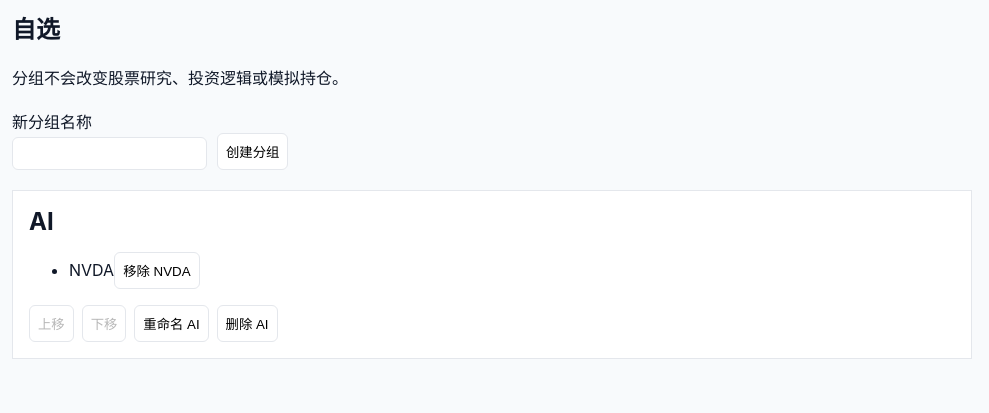
it: renames a group and removes a symbol
This screenshot has width=989, height=413.
Click the button "重命名 AI": point(171, 323) [134,305,209,342]
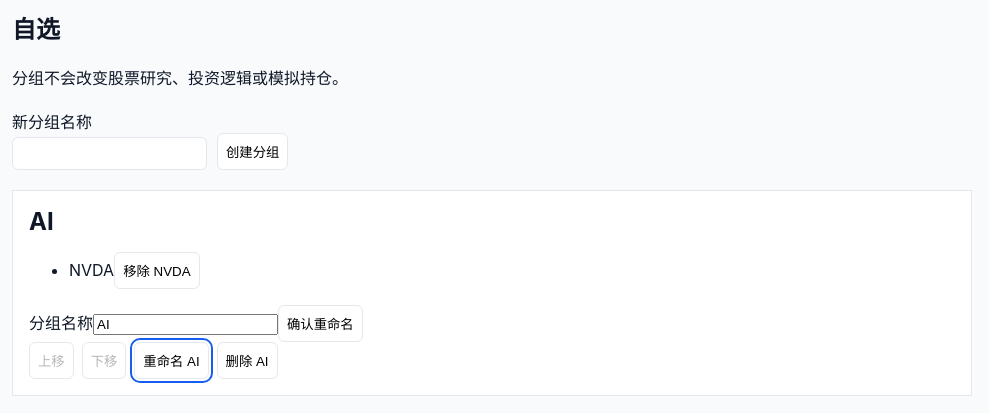
Replace the text in the field labelled "分组名称" with "AI 基础设施": point(186, 324) [93,314,278,335]
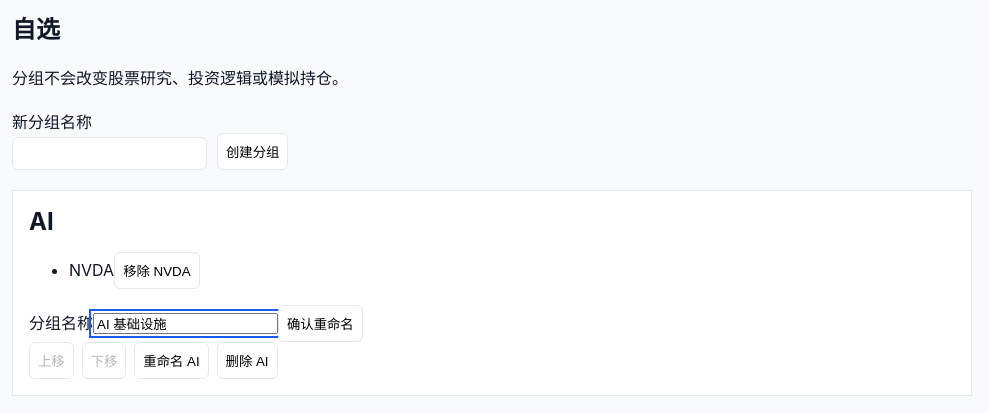
Click the button "确认重命名": point(320, 323) [278,305,363,342]
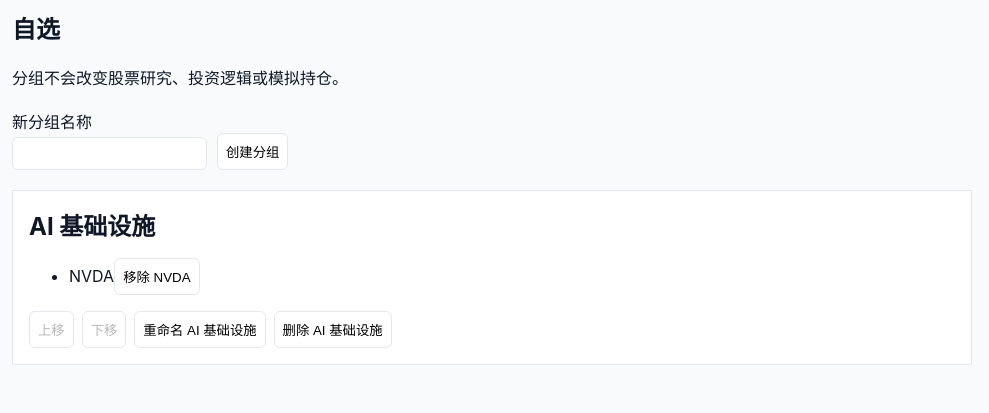
Click the button "移除 NVDA": point(157, 276) [114,258,200,295]
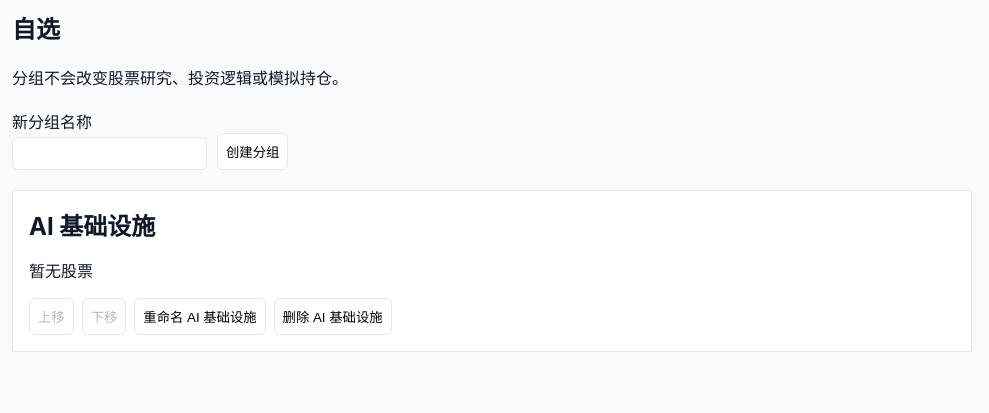
Check: the heading "AI 基础设施" is shown, box [29,212,155,241]
Check: the button "NVDA" is gone
